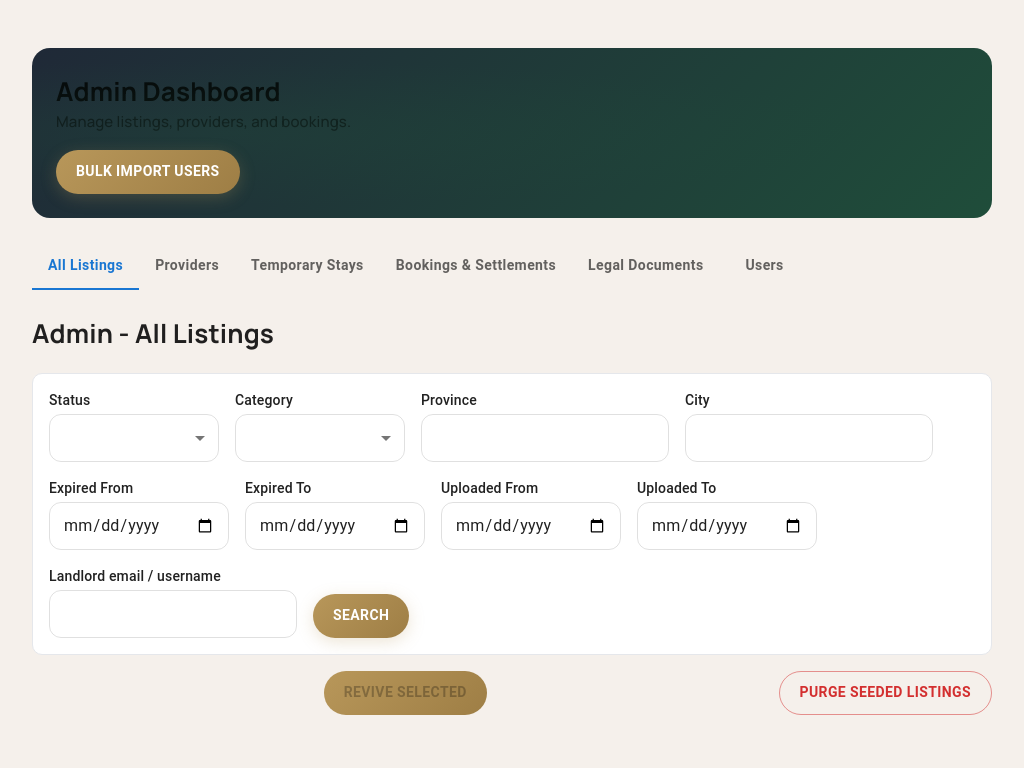
Scenario: Admin Dashboard - Users Tab › displays Users tab content when clicked
The width and height of the screenshot is (1024, 768).
Click the tab "Users".
click(765, 266)  # box left=720, top=242, right=810, bottom=290
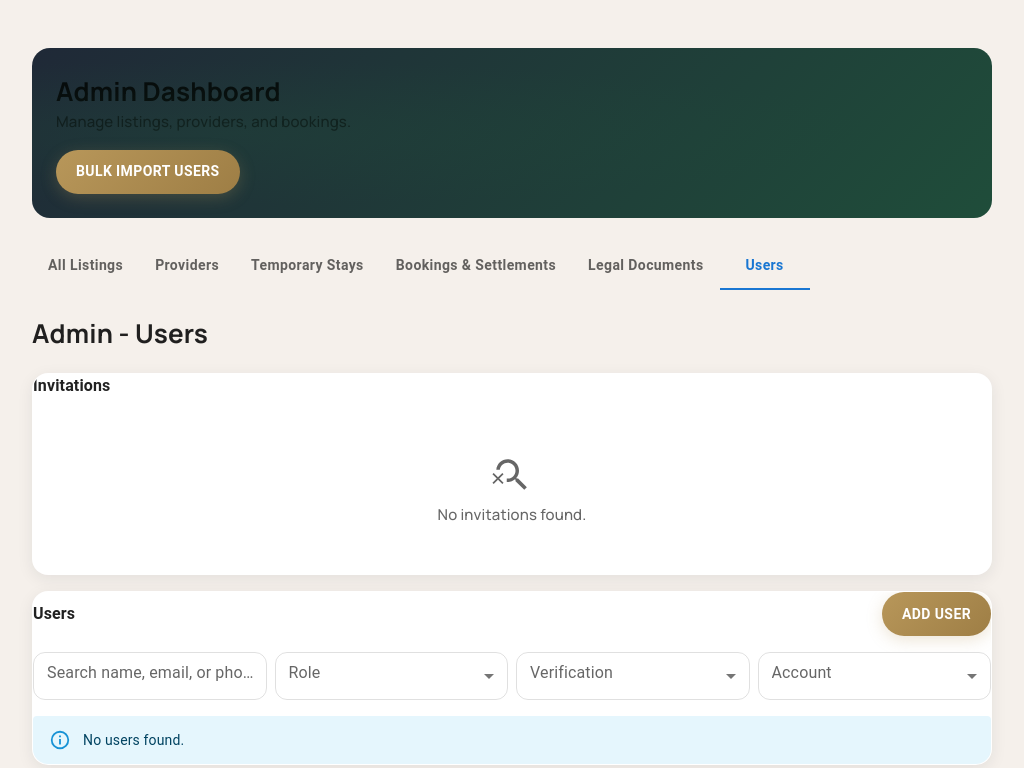
Result: the text "Admin - Users" is shown at left=32, top=314, right=208, bottom=350
